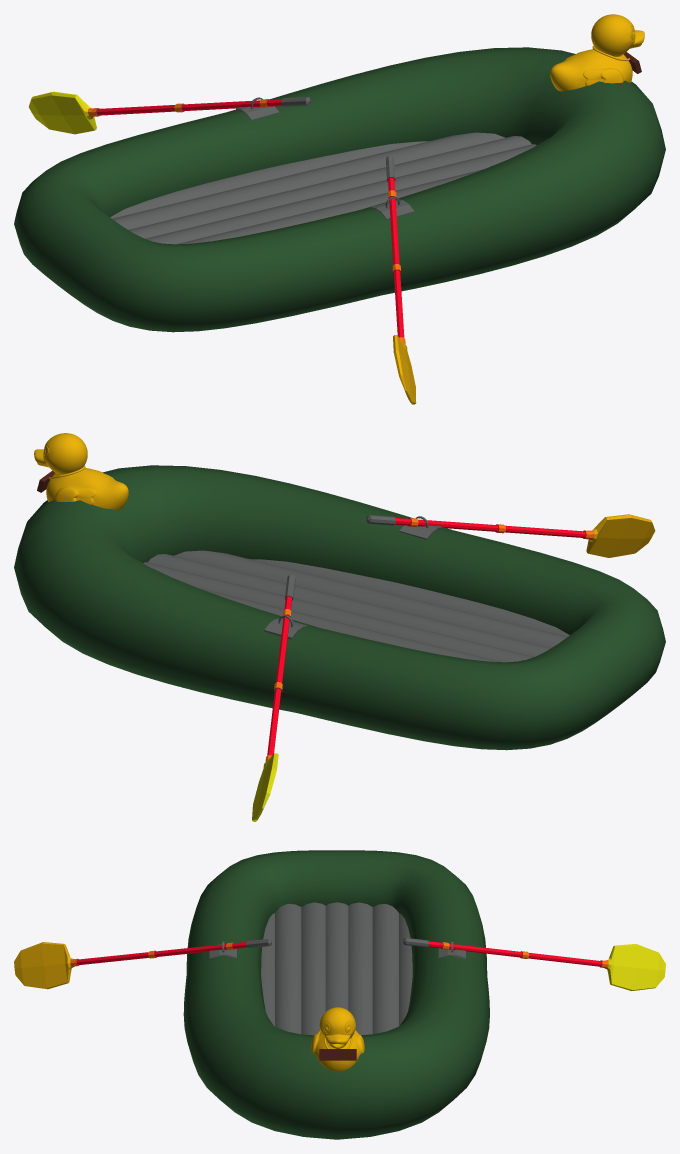
The model's file is RobbertoBoatWithRow.fbx.
The picture shows the model from 3 angles, top to bottom: view 1: azimuth 30°, elevation 25°; view 2: azimuth 150°, elevation 25°; view 3: azimuth 270°, elevation 25°; orthographic projection. The views are drawn at different scales.
Parts seen in each view (by area): view 1: BézierCircle, Sphere.003, Rubberto, Cylinder.001, Cylinder.007, Cube; view 2: BézierCircle, Sphere.003, Rubberto, Cylinder.007, Cylinder.001, Cube; view 3: BézierCircle, Sphere.003, Cylinder.001, Cylinder.007, Rubberto, Cube.
Boxes of the visible parts, x1,y1,x2,y2 form: BézierCircle: (14, 47, 665, 332); Sphere.003: (110, 132, 536, 244); Rubberto: (550, 14, 644, 91); Cylinder.001: (29, 91, 310, 134); Cylinder.007: (386, 156, 416, 404); Cube: (236, 97, 414, 220); BézierCircle: (14, 465, 665, 750); Sphere.003: (143, 550, 569, 662); Rubberto: (34, 433, 128, 509); Cylinder.007: (366, 514, 655, 557); Cylinder.001: (252, 575, 295, 821); Cube: (264, 516, 442, 639); BézierCircle: (183, 850, 489, 1139); Sphere.003: (261, 902, 412, 1035); Cylinder.001: (403, 937, 665, 990); Cylinder.007: (14, 938, 271, 989); Rubberto: (311, 1007, 364, 1070); Cube: (209, 941, 465, 959).
Bounding box in the file's own units: 621 × 160 × 698.
